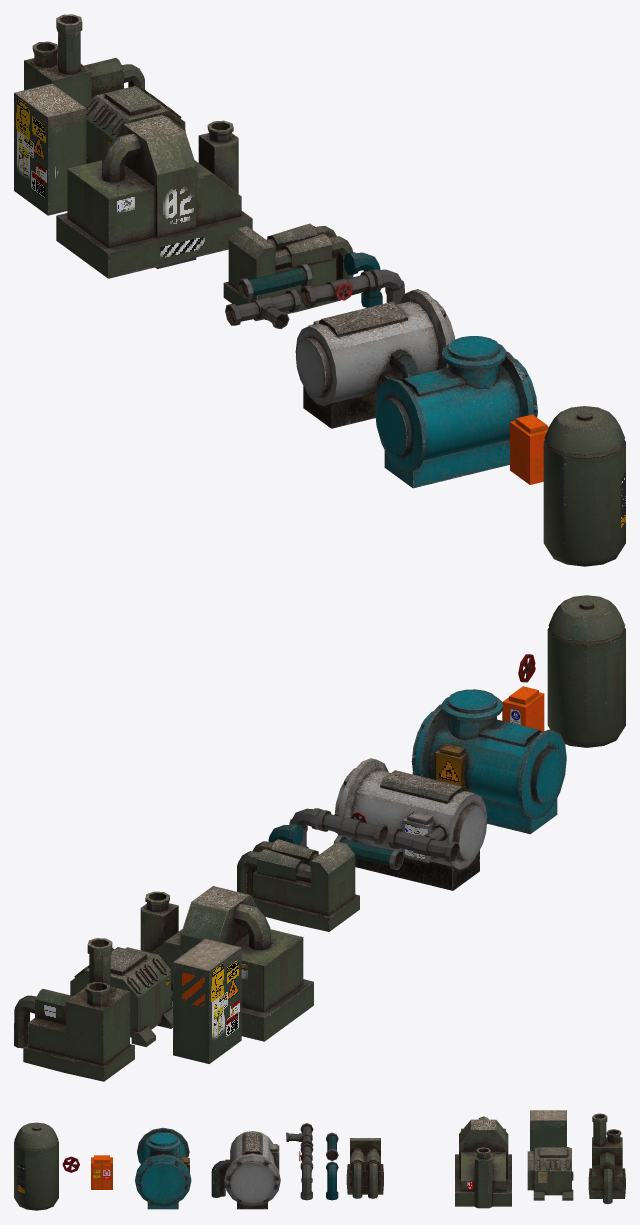
Rendered from Electrical.glb.
3 views of the same model, one above another, from view 1: azimuth 30°, elevation 25°; view 2: azimuth 150°, elevation 25°; view 3: azimuth 270°, elevation 25° (orthographic). The views are drawn at different scales.
Visible parts, largest first — view 1: Machinery_3, Machinery_7, Machinery_6, Machinery_9, Machinery_2, Machinery_5, Machinery_4, Machinery_1, Machinery_8, Pipe_Angled, Pipe_V2_Straight, Pipe_V1_Straight (+2 smaller); view 2: Machinery_7, Machinery_3, Machinery_6, Machinery_9, Machinery_4, Machinery_5, Machinery_2, Machinery_1, Pipe_Angled, Machinery_8, Pipe_V2_Straight, Pipe_V1_Straight; view 3: Machinery_3, Machinery_6, Machinery_7, Machinery_9, Machinery_4, Machinery_1, Machinery_5, Machinery_2, Machinery_8, Pipe_V2_Curved, Pipe_V1_Curved, Pipe_Angled (+3 smaller).
Boxes of the visible parts, bbox=[...] form: Machinery_3: bbox=[56, 115, 252, 278]; Machinery_7: bbox=[374, 336, 537, 488]; Machinery_6: bbox=[295, 289, 455, 428]; Machinery_9: bbox=[543, 406, 625, 566]; Machinery_2: bbox=[14, 83, 86, 215]; Machinery_5: bbox=[223, 223, 353, 320]; Machinery_4: bbox=[24, 14, 144, 107]; Machinery_1: bbox=[85, 86, 185, 163]; Machinery_8: bbox=[510, 414, 548, 484]; Pipe_Angled: bbox=[225, 289, 300, 328]; Pipe_V2_Straight: bbox=[300, 271, 375, 307]; Pipe_V1_Straight: bbox=[237, 264, 312, 300]; Machinery_7: bbox=[411, 689, 566, 834]; Machinery_3: bbox=[140, 886, 313, 1041]; Machinery_6: bbox=[334, 758, 487, 890]; Machinery_9: bbox=[547, 595, 625, 747]; Machinery_4: bbox=[14, 938, 134, 1081]; Machinery_5: bbox=[237, 839, 359, 931]; Machinery_2: bbox=[173, 938, 241, 1063]; Machinery_1: bbox=[70, 947, 172, 1047]; Pipe_Angled: bbox=[388, 823, 459, 861]; Machinery_8: bbox=[502, 686, 544, 731]; Pipe_V2_Straight: bbox=[317, 810, 388, 844]; Pipe_V1_Straight: bbox=[333, 835, 404, 869]; Machinery_3: bbox=[455, 1116, 511, 1208]; Machinery_6: bbox=[211, 1131, 280, 1209]; Machinery_7: bbox=[135, 1127, 191, 1209]; Machinery_9: bbox=[14, 1122, 58, 1210]; Machinery_4: bbox=[588, 1113, 625, 1204]; Machinery_1: bbox=[527, 1147, 573, 1200]; Machinery_5: bbox=[346, 1138, 383, 1198]; Machinery_2: bbox=[530, 1110, 566, 1151]; Machinery_8: bbox=[91, 1155, 112, 1189]; Pipe_V2_Curved: bbox=[300, 1161, 313, 1200]; Pipe_V1_Curved: bbox=[326, 1161, 338, 1200]; Pipe_Angled: bbox=[286, 1123, 313, 1146].
Size of the model in its own units: 5.3 by 4.18 by 27.13.
Materials: 15 (15 with a texture image).
